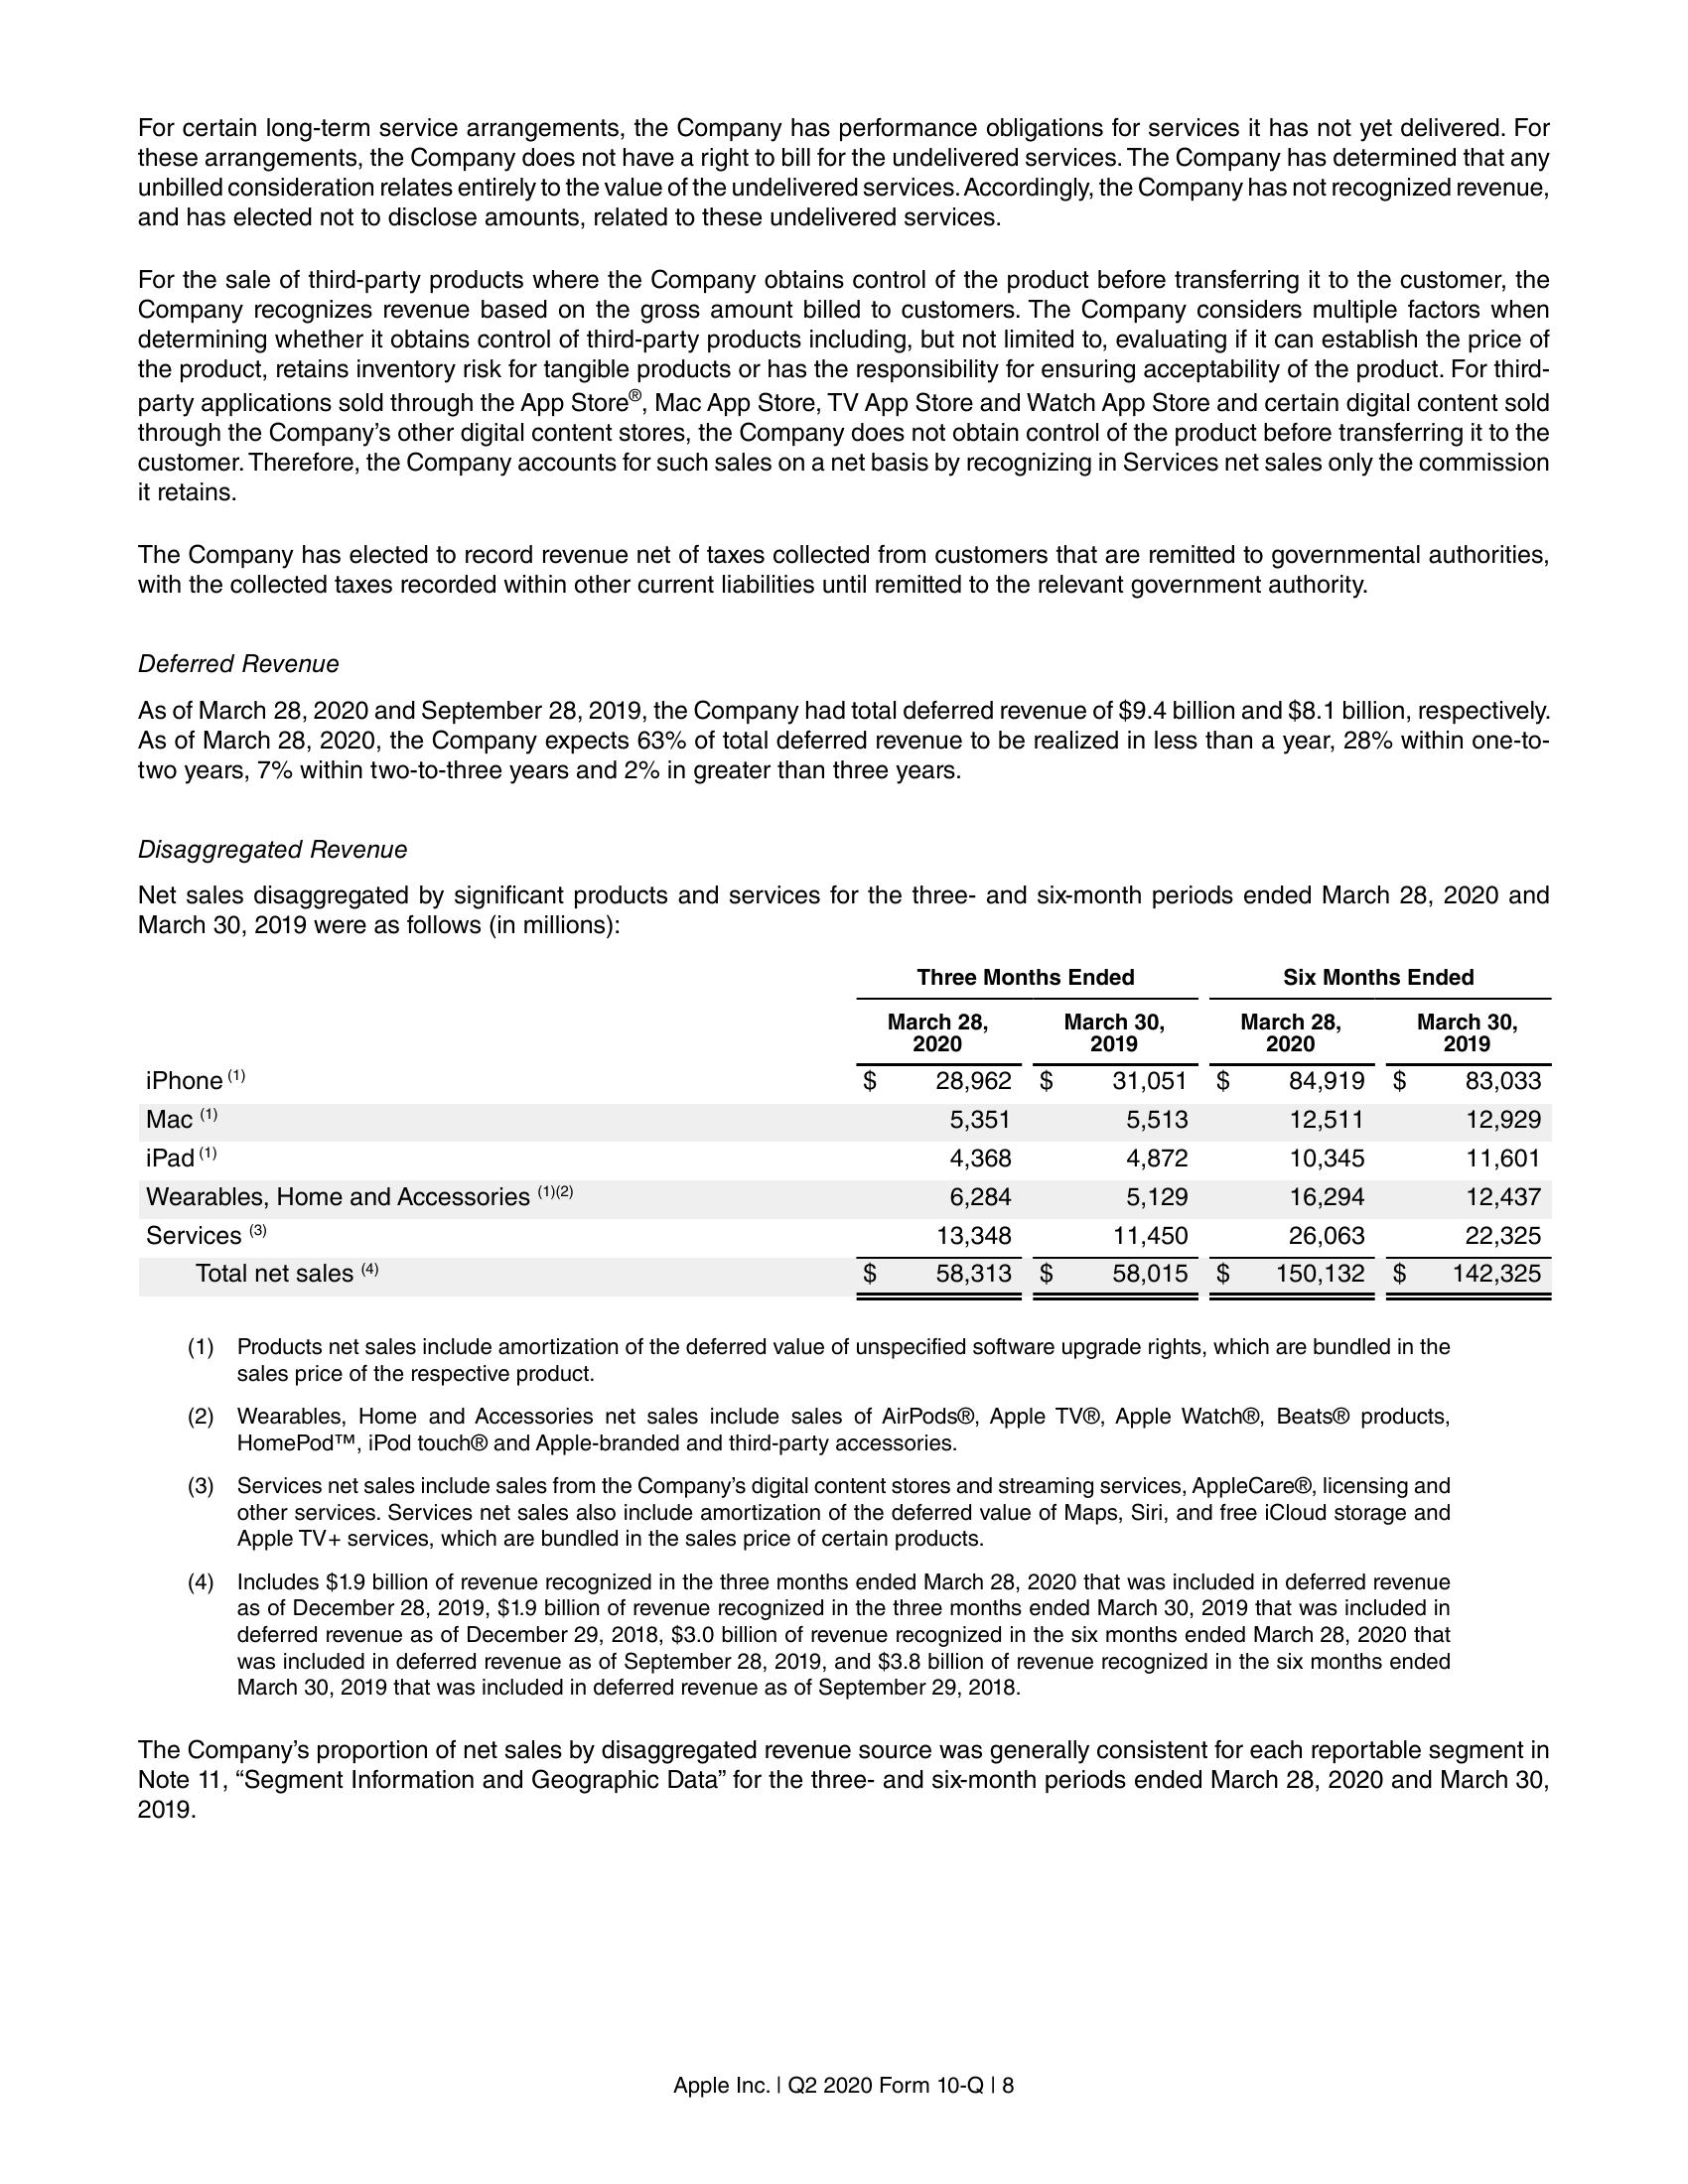table: (144, 964, 1557, 1305)
